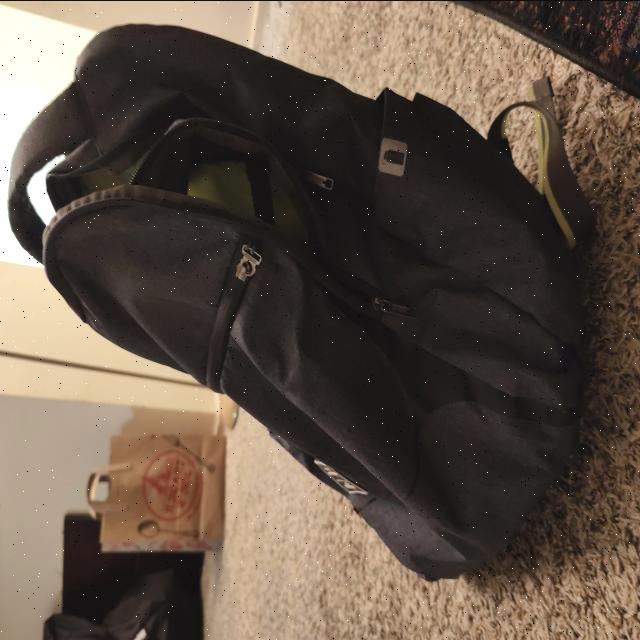bag: (23, 36, 550, 578)
